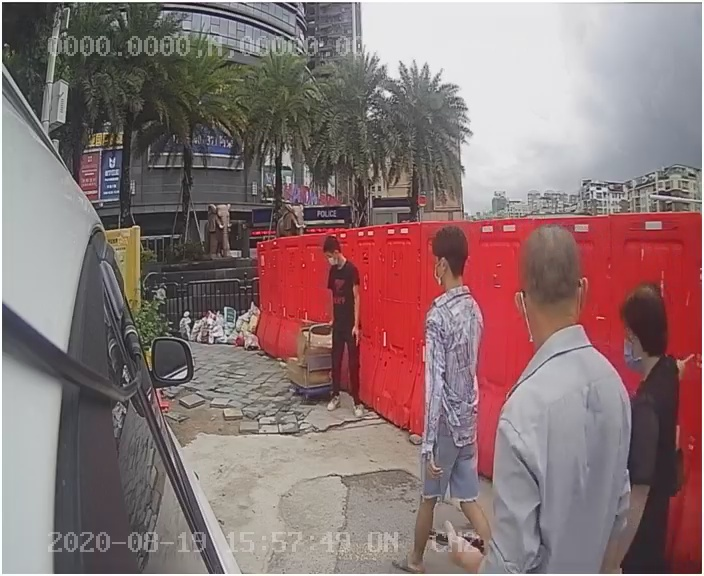person: (393, 224, 488, 498), (317, 236, 382, 418)
